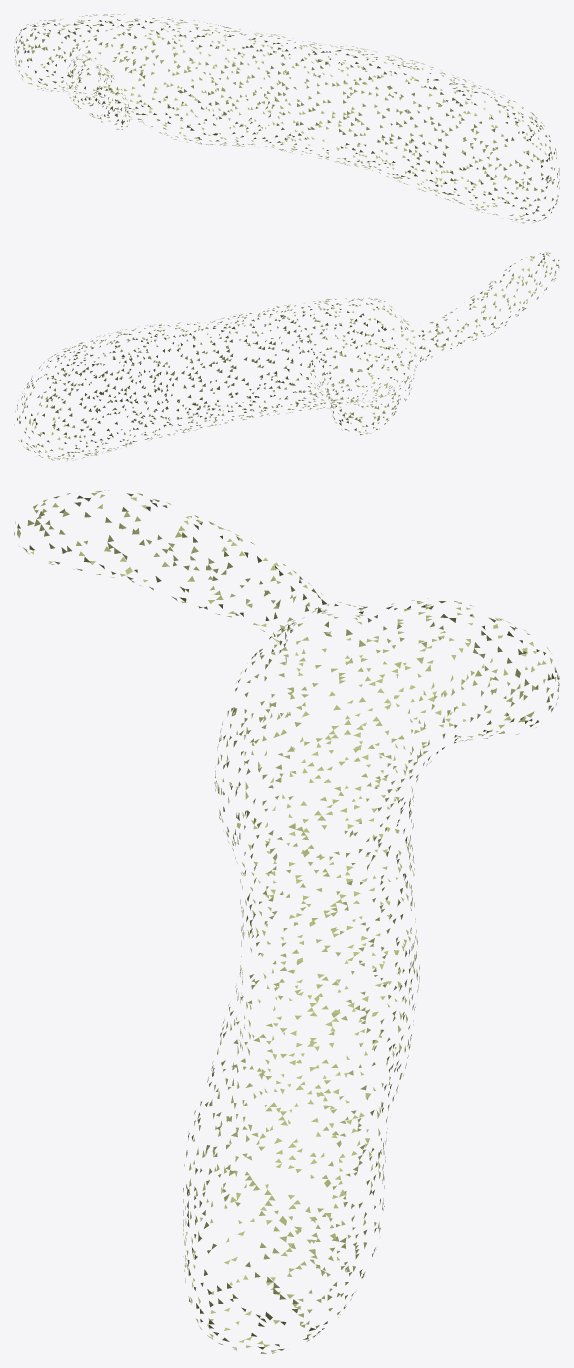
File: morph_010.glb
The picture shows the model from 3 angles, top to bottom: view 1: azimuth 30°, elevation 25°; view 2: azimuth 150°, elevation 25°; view 3: azimuth 270°, elevation 25°; orthographic projection. The views are drawn at different scales.
Bounding box in the file's own units: 99.27 × 55.01 × 56.14.
